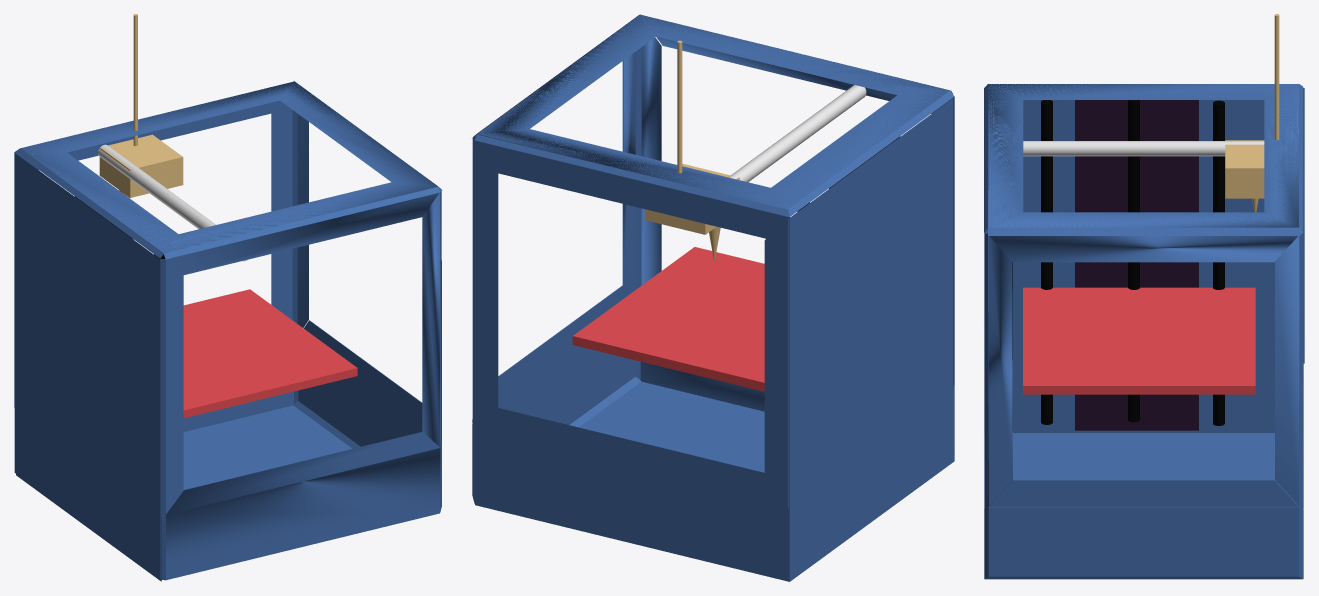
Rendered from PRINT.fbx.
3 views of the same model, side by side, from view 1: azimuth 30°, elevation 25°; view 2: azimuth 150°, elevation 25°; view 3: azimuth 270°, elevation 25° (orthographic). The views are drawn at different scales.
Visible parts, largest first — view 1: Куб, Куб.001, Цилиндр.003, Цилиндр.005; view 2: Куб, Куб.001, Цилиндр.005, Цилиндр.003; view 3: Куб, Куб.001, Куб.002, Цилиндр.005, Цилиндр.003, Цилиндр.002, Цилиндр, Цилиндр.001.
Boxes of the visible parts, bbox=[...] form: Куб: bbox=[14, 81, 442, 581]; Куб.001: bbox=[183, 289, 357, 418]; Цилиндр.003: bbox=[99, 14, 183, 198]; Цилиндр.005: bbox=[98, 144, 247, 261]; Куб: bbox=[472, 14, 954, 581]; Куб.001: bbox=[572, 247, 764, 391]; Цилиндр.005: bbox=[728, 85, 866, 182]; Цилиндр.003: bbox=[645, 40, 739, 261]; Куб: bbox=[984, 84, 1304, 579]; Куб.001: bbox=[1023, 287, 1255, 394]; Куб.002: bbox=[1075, 100, 1198, 430]; Цилиндр.005: bbox=[1023, 141, 1264, 156]; Цилиндр.003: bbox=[1225, 14, 1279, 212]; Цилиндр.002: bbox=[1213, 100, 1224, 425]; Цилиндр: bbox=[1041, 100, 1052, 424]; Цилиндр.001: bbox=[1128, 100, 1139, 422].
Bounding box in the file's own units: 1043 × 1558 × 949.
